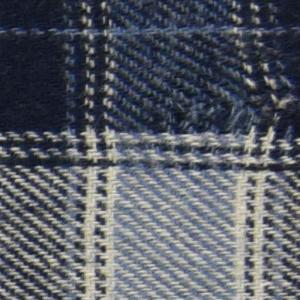Damage: (127, 38, 300, 144)
